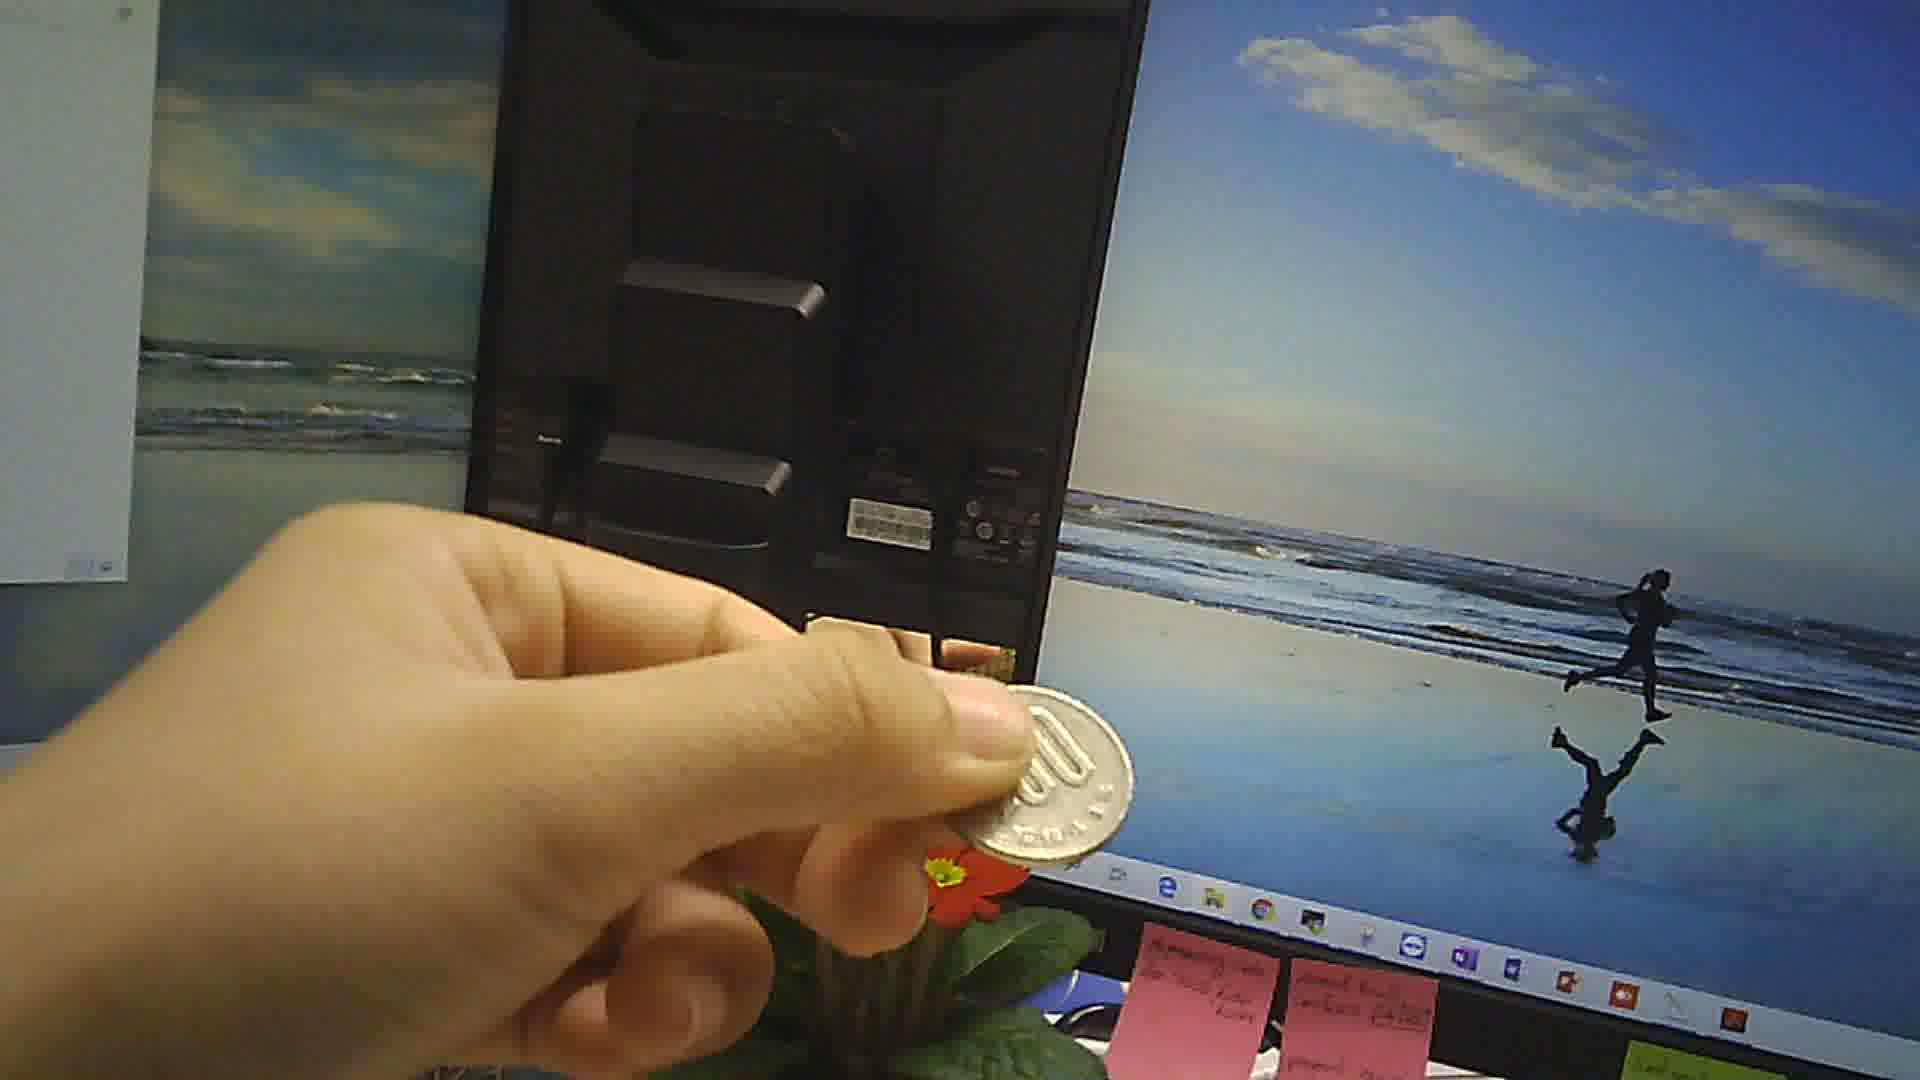100 Yen: (943, 679, 1146, 874)
